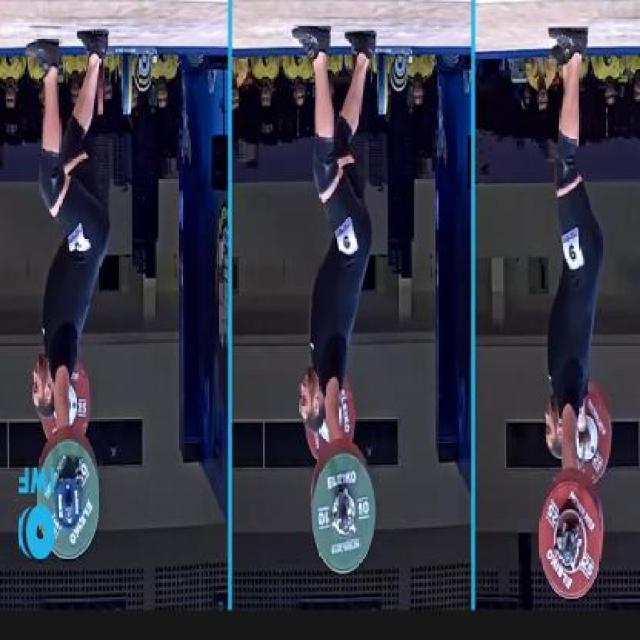Barbell: (64, 504, 76, 528), (560, 548, 574, 568), (341, 517, 352, 537)
